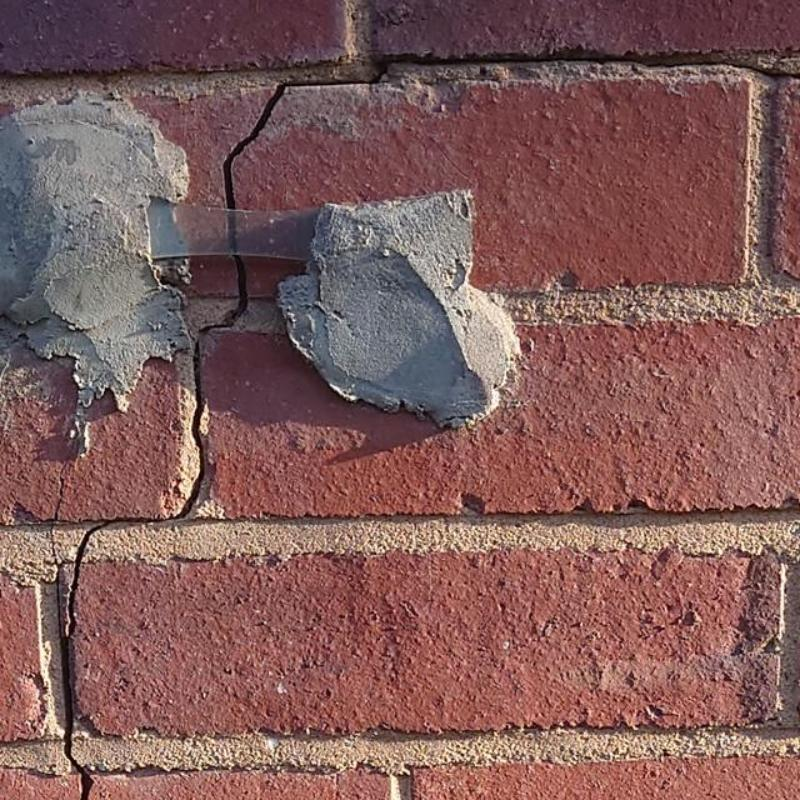crack: (199, 84, 284, 332), (61, 520, 117, 799), (401, 57, 799, 79), (175, 341, 205, 518), (284, 59, 399, 86), (49, 465, 65, 639)
